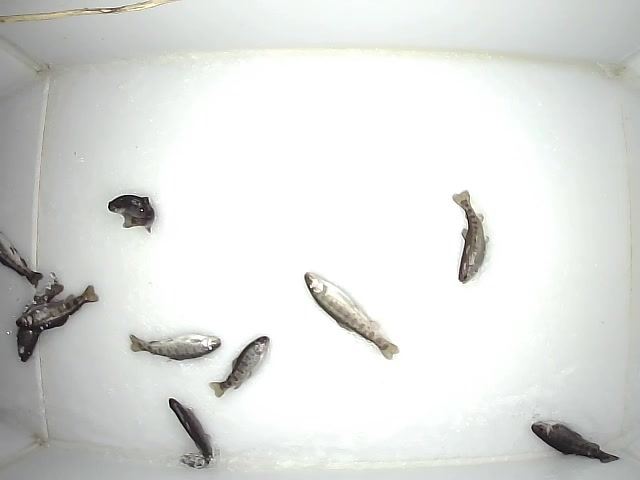fish: (301, 270, 400, 362), (14, 276, 64, 362), (530, 417, 621, 464), (12, 282, 100, 330), (450, 189, 492, 284), (208, 335, 272, 396), (168, 394, 214, 469), (128, 331, 223, 362), (1, 230, 42, 286), (106, 193, 157, 234)
